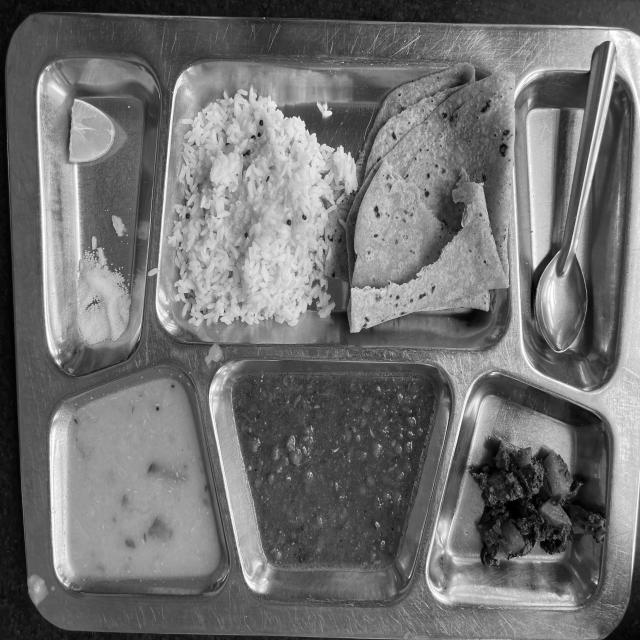100.6- Food Left: (21, 31, 618, 625)
